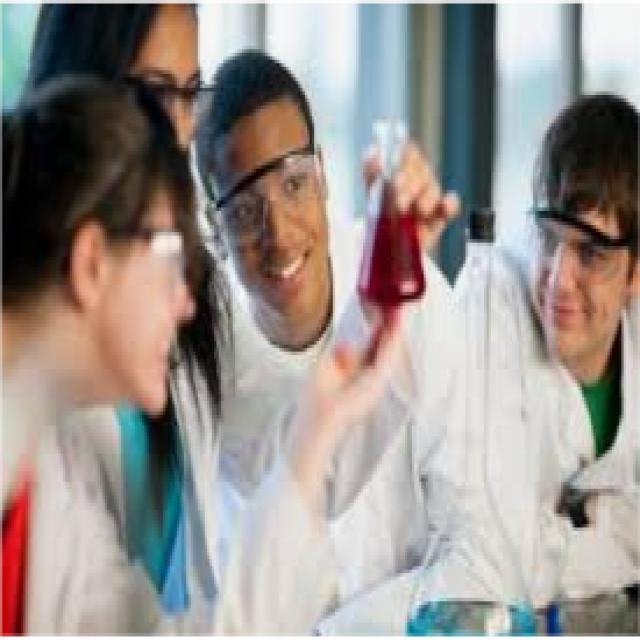glasses: (218, 136, 330, 247), (529, 198, 638, 276), (103, 213, 200, 280), (134, 45, 207, 109)
